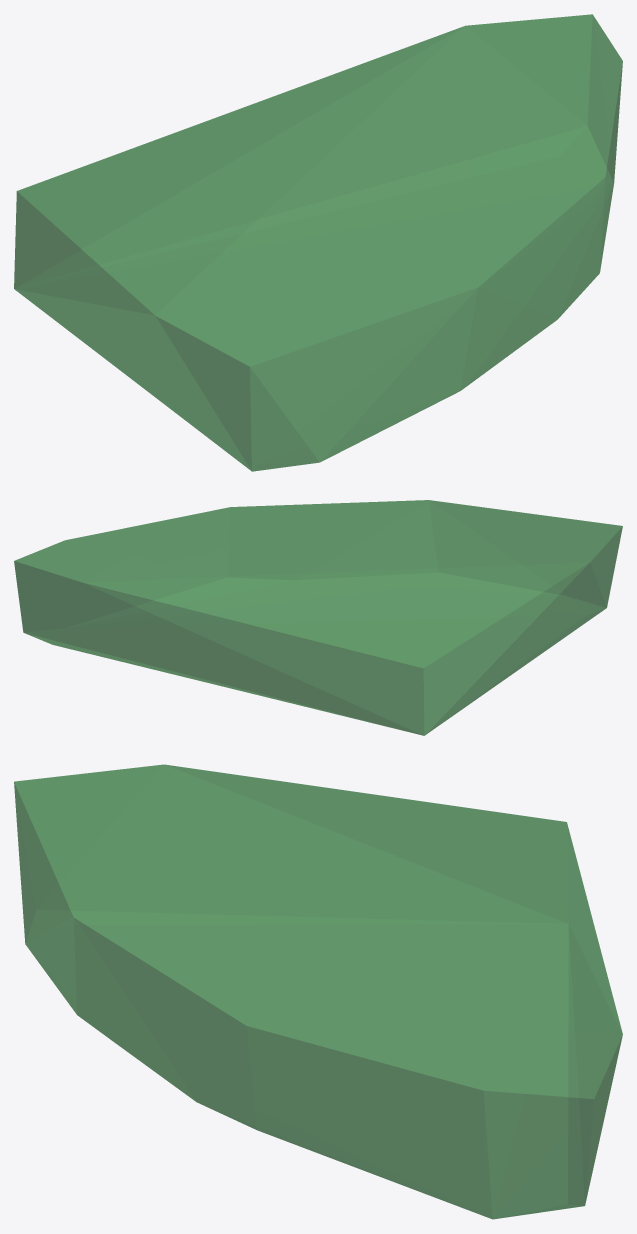
3 renders of one model, top to bottom at view 1: azimuth 30°, elevation 25°; view 2: azimuth 150°, elevation 25°; view 3: azimuth 270°, elevation 25°, orthographic. The views are drawn at different scales.
Visible parts, largest first — view 1: Shape_IndexedFaceSet.003_Shape_IndexedFaceSet.8282; view 2: Shape_IndexedFaceSet.003_Shape_IndexedFaceSet.8282; view 3: Shape_IndexedFaceSet.003_Shape_IndexedFaceSet.8282.
Boxes of the visible parts, <box> form: Shape_IndexedFaceSet.003_Shape_IndexedFaceSet.8282: <box>14,14,622,471</box>; Shape_IndexedFaceSet.003_Shape_IndexedFaceSet.8282: <box>14,500,622,735</box>; Shape_IndexedFaceSet.003_Shape_IndexedFaceSet.8282: <box>14,764,622,1219</box>.
Size of the model in its own units: 0.4309 by 0.0858 by 0.3367.
